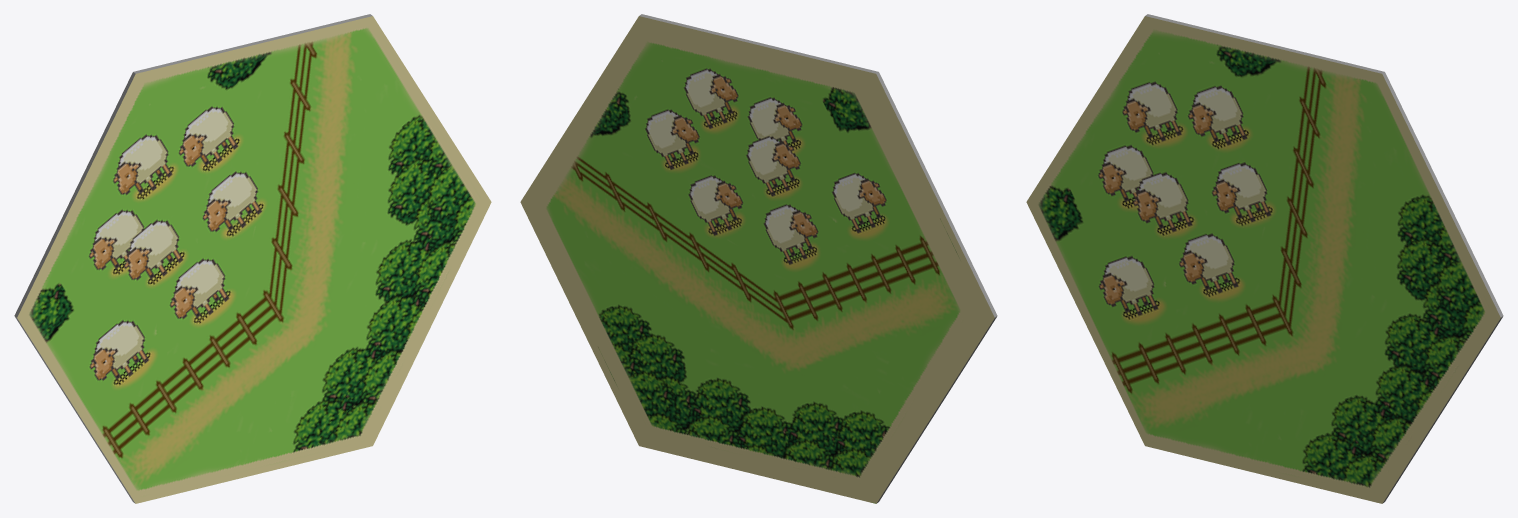
Rendered from Wool_Map.FBX.
The picture shows the model from 3 angles, left to right: view 1: azimuth 30°, elevation 25°; view 2: azimuth 150°, elevation 25°; view 3: azimuth 330°, elevation 25°; orthographic projection.
Parts seen in each view (by area): view 1: Gengon001; view 2: Gengon001; view 3: Gengon001.
Boxes of the visible parts, x1,y1,x2,y2 form: Gengon001: [14, 14, 491, 503]; Gengon001: [520, 14, 997, 503]; Gengon001: [1026, 14, 1503, 503].
Bounding box in the file's own units: 20 × 0.2 × 17.32.
Materials: 3 (2 with a texture image).
